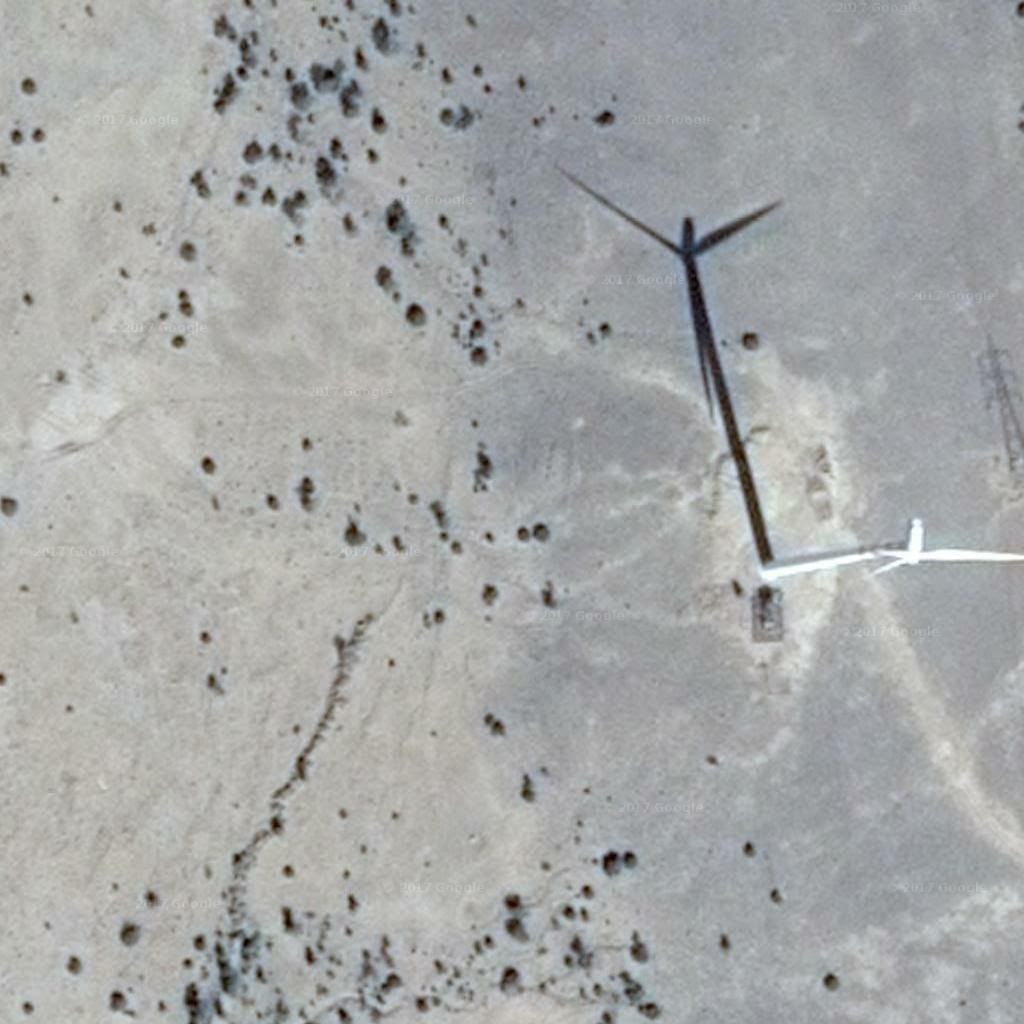Windmill: (551, 151, 797, 565)
